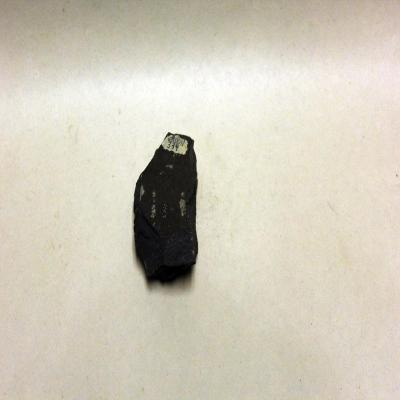mineralogy: (134, 134, 198, 280)
